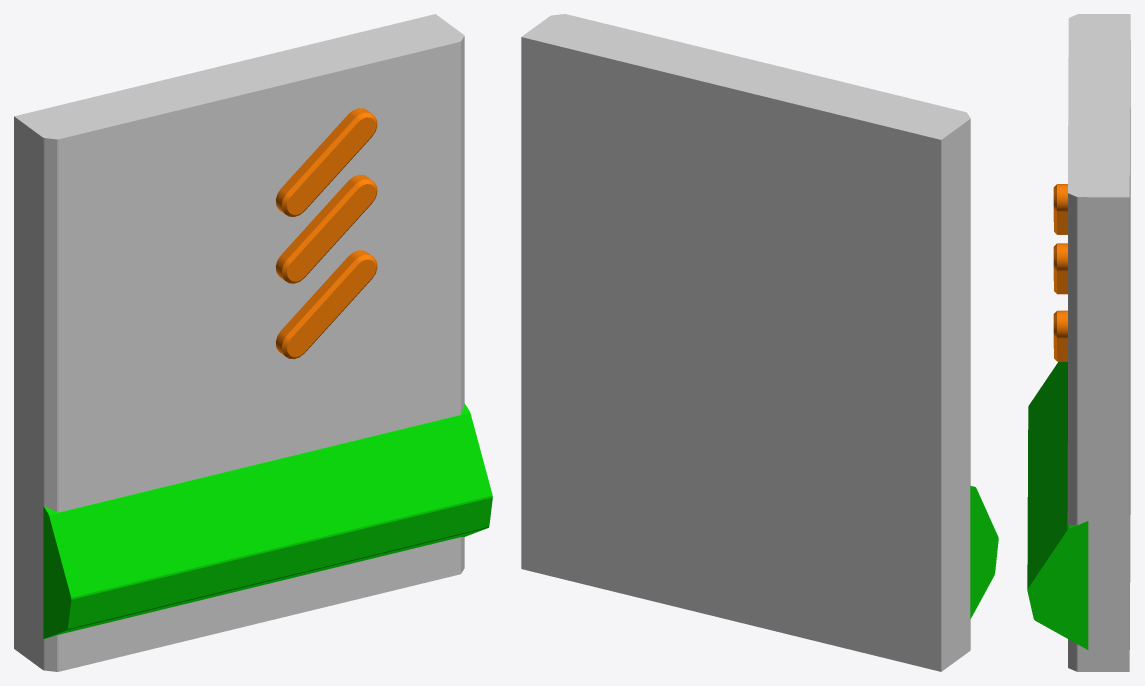
Rendered from wall_raise_bump.obj.
3 renders of one model, left to right at view 1: azimuth 30°, elevation 25°; view 2: azimuth 150°, elevation 25°; view 3: azimuth 270°, elevation 25°, orthographic. The views are drawn at different scales.
Visible parts, largest first — view 1: object1; view 2: object1; view 3: object1.
Part boxes in pixels (x1=…): object1: x1=14, y1=14, x2=492, y2=671; object1: x1=521, y1=14, x2=998, y2=671; object1: x1=1027, y1=14, x2=1130, y2=671.
Bounding box in the file's own units: 45.52 × 55 × 10.84.
